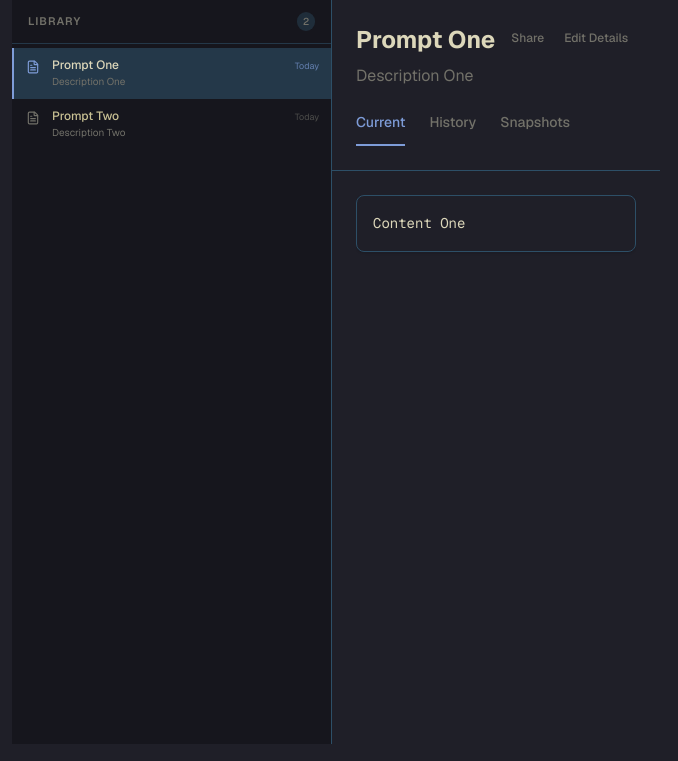
Test case: PromptsContainer › renders and allows selecting a prompt
Expected: the text "Content One" is shown, [356, 195, 636, 252]
Click on second prompt
Click the text "Prompt Two": (86, 116) [52, 108, 119, 124]
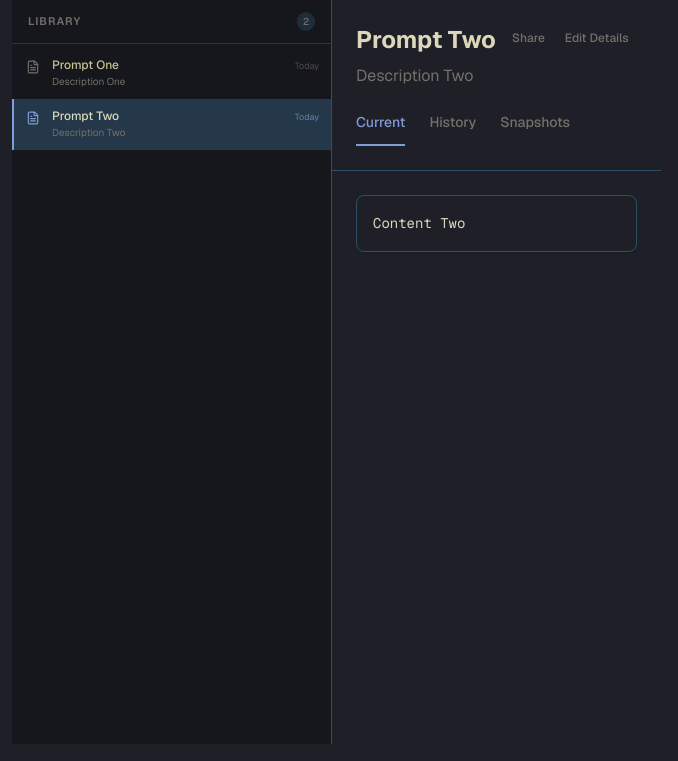
Now the text "Content Two" is shown, box [356, 195, 637, 252]
